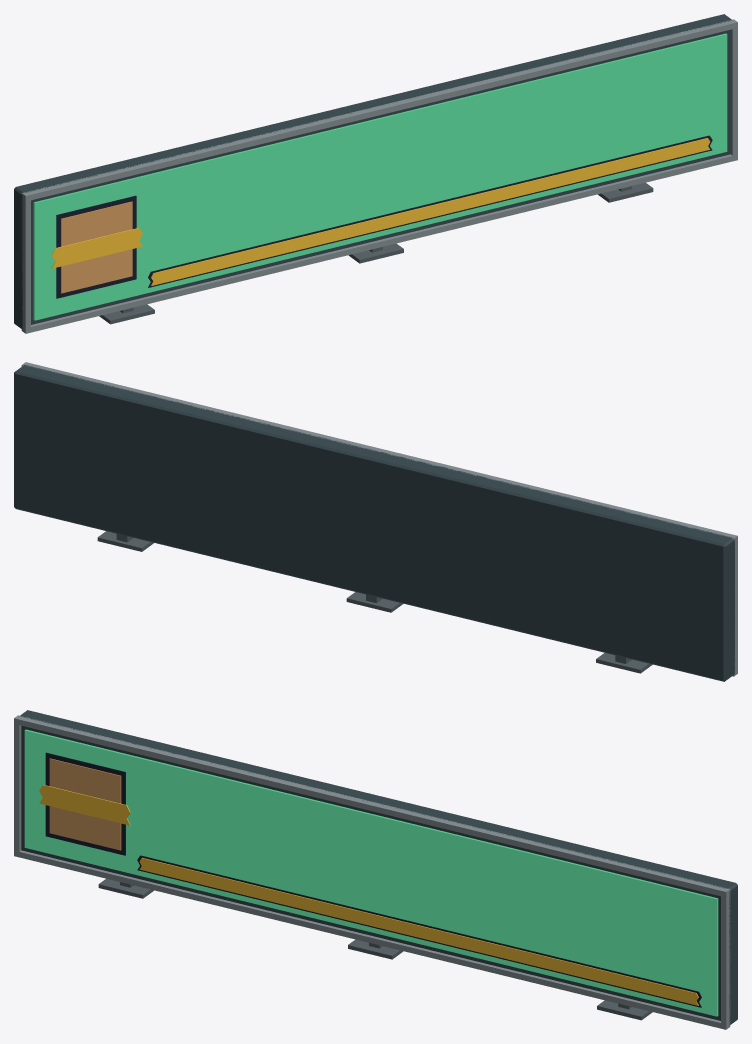
File: sm_env_shed_sign_large.glb
3 renders of one model, top to bottom at view 1: azimuth 30°, elevation 25°; view 2: azimuth 150°, elevation 25°; view 3: azimuth 330°, elevation 25°, orthographic.
Visible parts, largest first — view 1: Face, Housing, BrandTape.001, LipTop, LipBottom, Brand, BrandTapeEdge, BrandTape, BrandInk, LipEnd, LipEnd.001, Skid.002 (+2 smaller); view 2: Housing, LipTop, Skid, Skid.001, Skid.002; view 3: Face, Housing, BrandTape.001, LipTop, LipBottom, Brand, BrandTapeEdge, BrandTape, BrandInk, LipEnd.001, LipEnd, Skid (+2 smaller).
Part boxes in pixels (bbox=[...]): Face: bbox=[33, 33, 727, 320]; Housing: bbox=[14, 14, 732, 329]; BrandTape.001: bbox=[151, 138, 710, 285]; LipTop: bbox=[21, 19, 737, 200]; LipBottom: bbox=[21, 154, 737, 333]; Brand: bbox=[61, 201, 132, 293]; BrandTapeEdge: bbox=[148, 135, 712, 287]; BrandTape: bbox=[51, 228, 142, 268]; BrandInk: bbox=[56, 195, 136, 298]; LipEnd: bbox=[21, 196, 30, 330]; LipEnd.001: bbox=[730, 25, 737, 157]; Skid.002: bbox=[598, 182, 653, 202]; Housing: bbox=[14, 364, 734, 681]; LipTop: bbox=[21, 362, 737, 543]; Skid: bbox=[596, 653, 652, 673]; Skid.001: bbox=[346, 592, 403, 612]; Skid.002: bbox=[97, 531, 153, 551]; Face: bbox=[24, 729, 718, 1016]; Housing: bbox=[20, 710, 737, 1025]; BrandTape.001: bbox=[139, 857, 698, 1005]; LipTop: bbox=[14, 715, 730, 896]; LipBottom: bbox=[14, 850, 730, 1029]; Brand: bbox=[49, 758, 121, 850]; BrandTapeEdge: bbox=[137, 855, 701, 1007]; BrandTape: bbox=[39, 784, 130, 825]; BrandInk: bbox=[45, 752, 125, 855]; LipEnd.001: bbox=[721, 892, 730, 1026]; LipEnd: bbox=[14, 721, 21, 854]; Skid: bbox=[98, 878, 153, 898].
Bounding box in the file's own units: 8 × 1.6 × 0.259.
